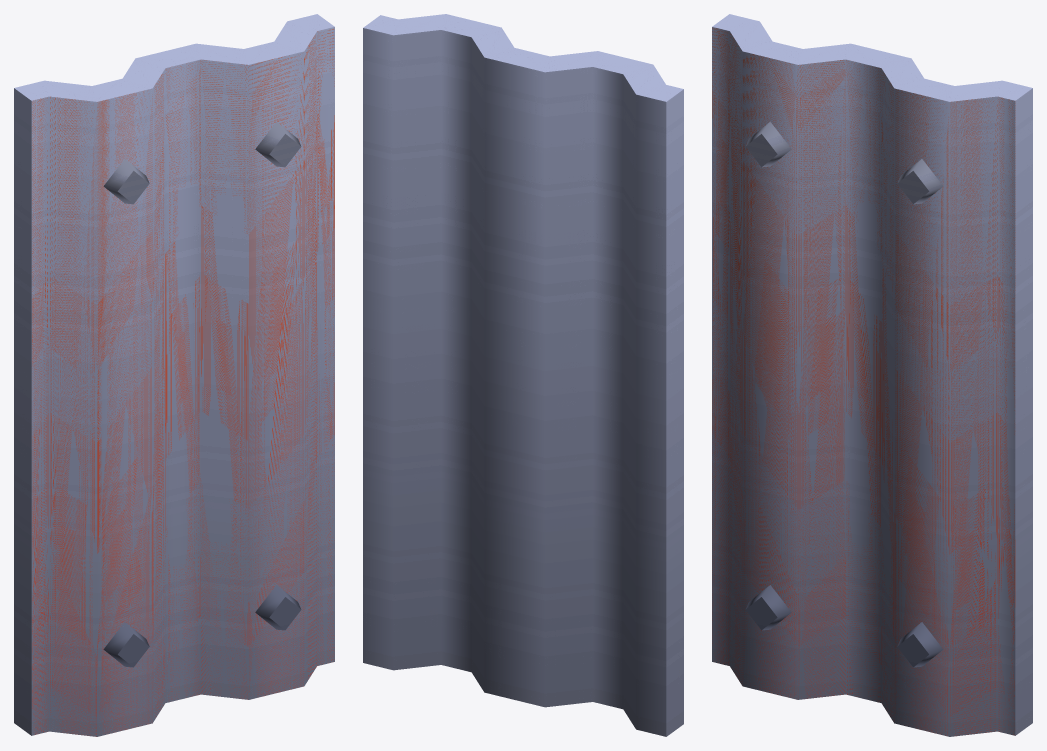
Rendered from metal-panel-screws-narrow.glb.
3 renders of one model, left to right at view 1: azimuth 30°, elevation 25°; view 2: azimuth 150°, elevation 25°; view 3: azimuth 330°, elevation 25°, orthographic.
Parts seen in each view (by area): view 1: metal-panel-screws-narrow; view 2: metal-panel-screws-narrow; view 3: metal-panel-screws-narrow.
Boxes of the visible parts, left/top/right/bottom form: metal-panel-screws-narrow: left=14, top=14, right=334, bottom=736; metal-panel-screws-narrow: left=363, top=14, right=683, bottom=736; metal-panel-screws-narrow: left=712, top=14, right=1032, bottom=736.
Bounding box in the file's own units: 1.26 × 2.52 × 0.315.
1 material, 1 textured.
